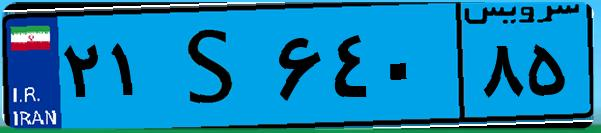0: (385, 28, 445, 110)
1: (110, 28, 158, 98)
2: (57, 26, 110, 100)
4: (330, 28, 385, 110)
5: (525, 38, 570, 115)
6: (270, 28, 330, 110)
8: (475, 38, 525, 113)
S: (158, 12, 270, 120)
